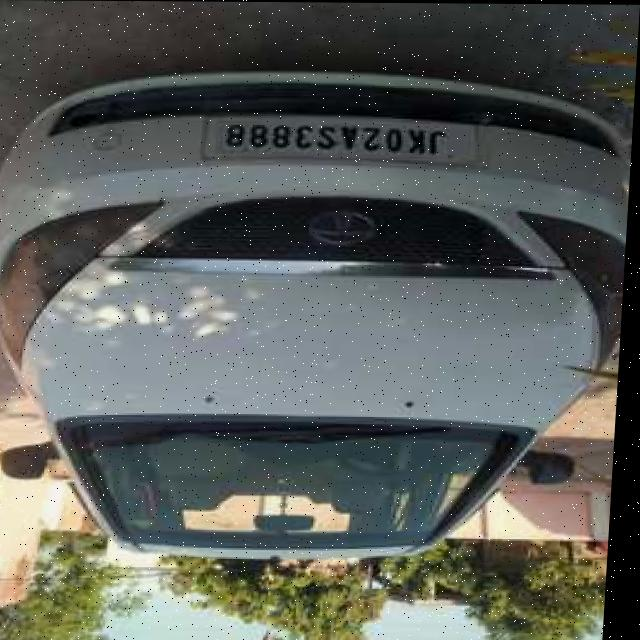plate: (204, 113, 483, 166)
